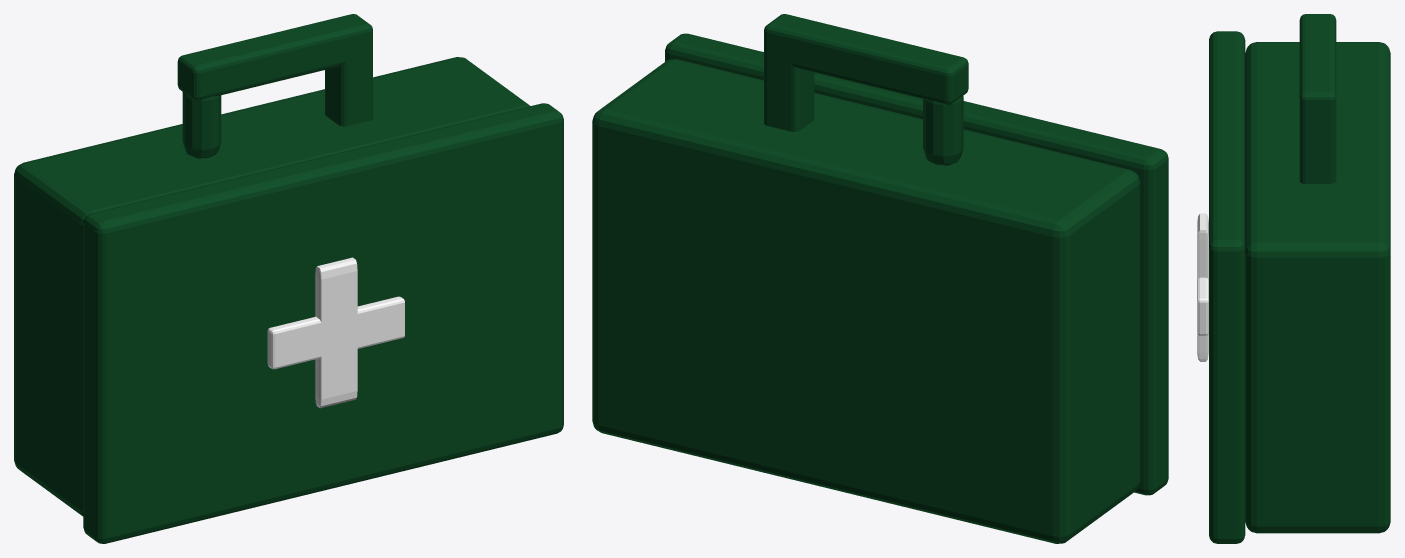
The model's file is FirstAidKit.fbx.
3 views of the same model, side by side, from view 1: azimuth 30°, elevation 25°; view 2: azimuth 150°, elevation 25°; view 3: azimuth 270°, elevation 25° (orthographic). The views are drawn at different scales.
Visible parts, largest first — view 1: FrontLid, CaseBody, HandleTop, CrossHorizontal, CrossVertical, HandleRight, HandleLeft; view 2: CaseBody, FrontLid, HandleTop, HandleRight, HandleLeft; view 3: CaseBody, FrontLid, HandleTop, HandleRight, CrossVertical, CrossHorizontal.
Boxes of the visible parts, x1,y1,x2,y2 form: FrontLid: (83, 103, 563, 543); CaseBody: (14, 57, 530, 516); HandleTop: (177, 14, 372, 100); CrossHorizontal: (267, 296, 404, 369); CrossVertical: (315, 257, 357, 408); HandleRight: (325, 48, 372, 126); HandleLeft: (182, 92, 221, 158); CaseBody: (592, 59, 1140, 543); FrontLid: (665, 33, 1168, 495); HandleTop: (764, 14, 968, 104); HandleRight: (764, 49, 814, 131); HandleLeft: (923, 96, 963, 165); CaseBody: (1245, 42, 1390, 533); FrontLid: (1209, 31, 1245, 543); HandleTop: (1299, 14, 1336, 122); HandleRight: (1299, 115, 1336, 183); CrossVertical: (1197, 213, 1208, 361); CrossHorizontal: (1197, 277, 1208, 335).
Bounding box in the file's own units: 35 × 29.25 × 13.3.
